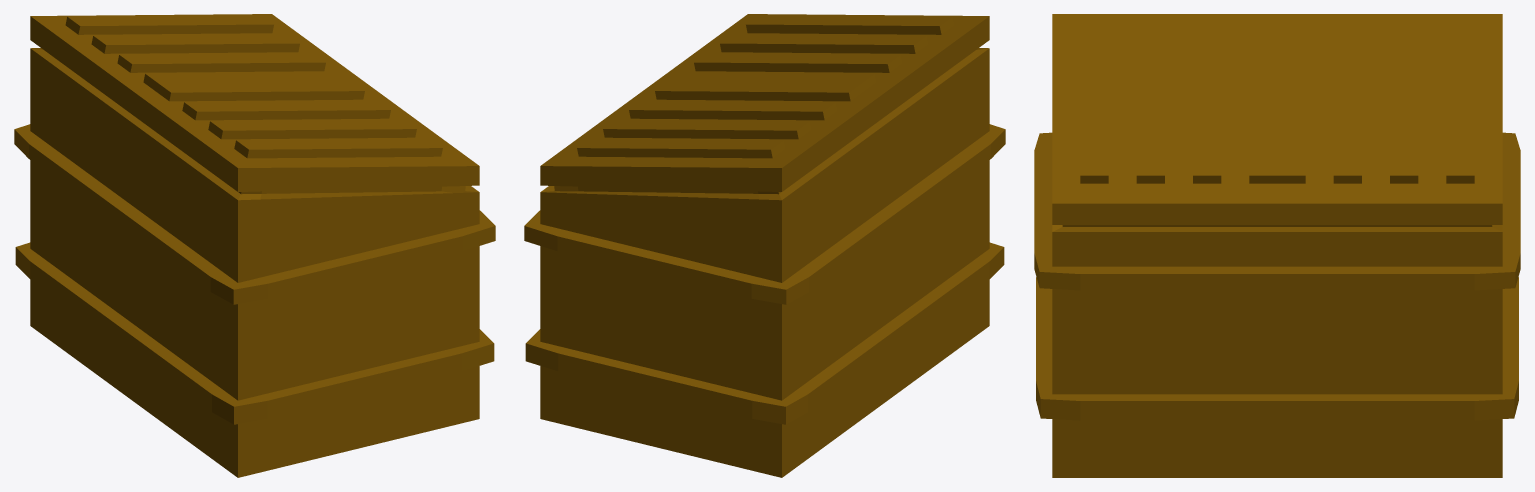
File: trash.fbx
3 renders of one model, left to right at view 1: azimuth 30°, elevation 25°; view 2: azimuth 150°, elevation 25°; view 3: azimuth 270°, elevation 25°, orthographic. The views are drawn at different scales.
Parts seen in each view (by area): view 1: Cube; view 2: Cube; view 3: Cube.
Boxes of the visible parts, box(x1,y1,x2,y2) form: Cube: box(14, 14, 495, 477); Cube: box(524, 14, 1005, 477); Cube: box(1034, 14, 1520, 477).
Size of the model in its own units: 224 by 247 by 321.
